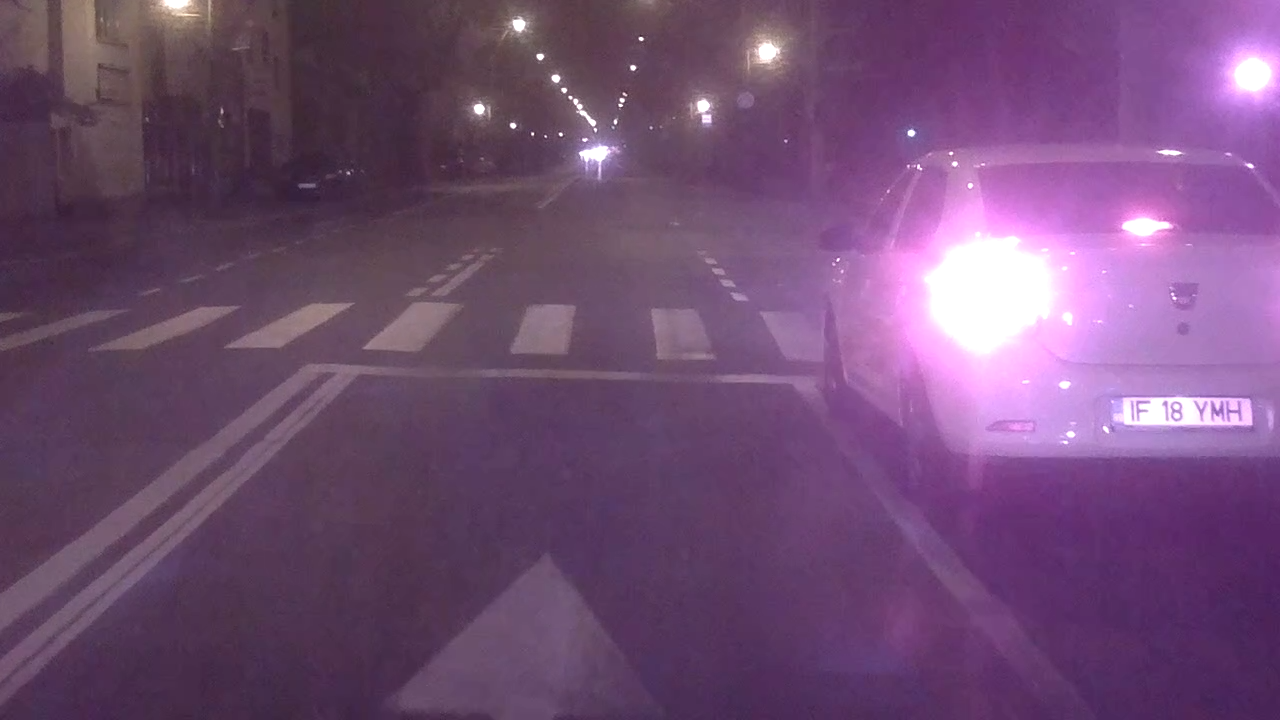license-plate: (1107, 391, 1261, 434)
